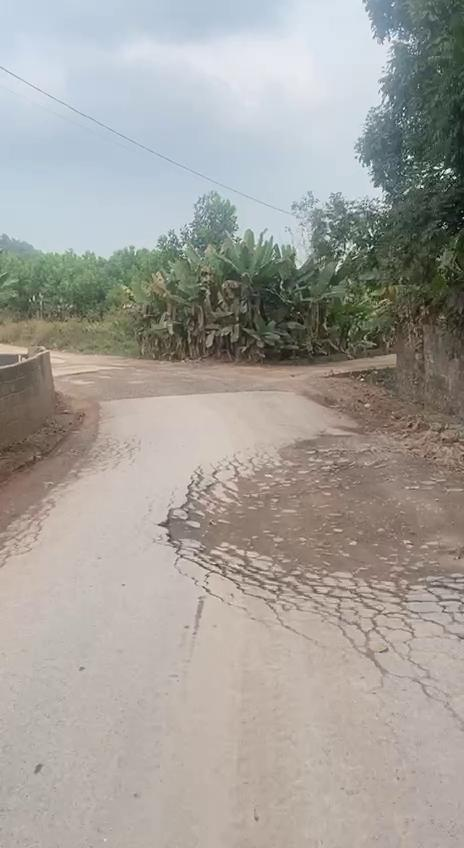pothole: (156, 428, 464, 597)
